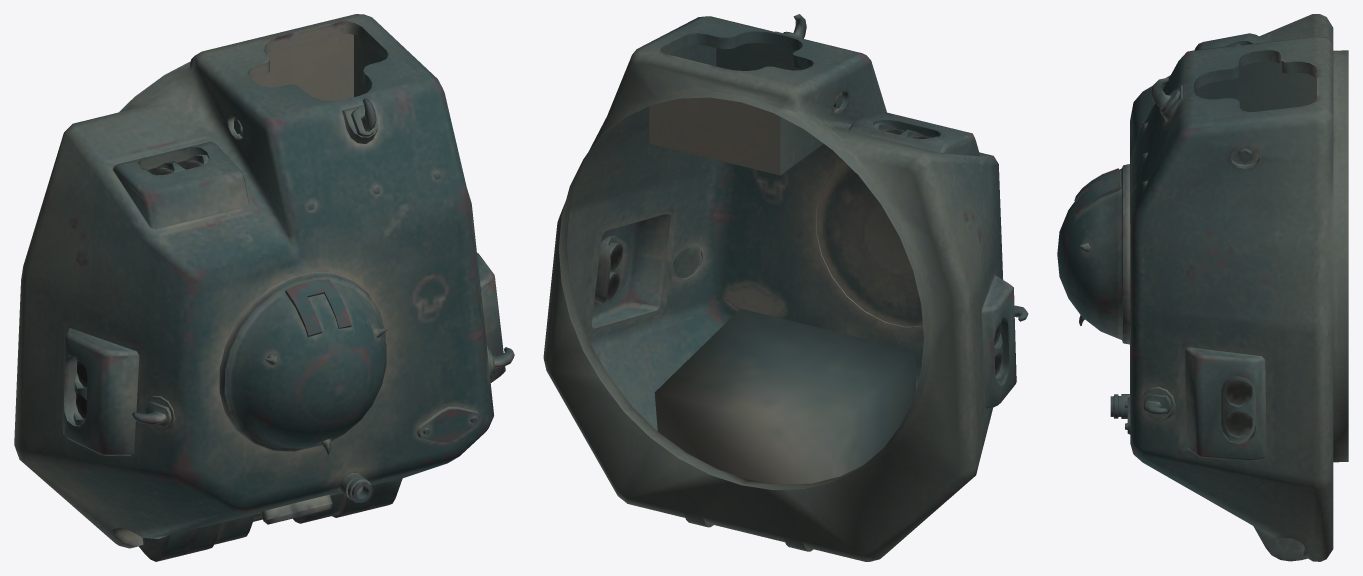
The model's file is Turret_01.glb.
The picture shows the model from 3 angles, left to right: view 1: azimuth 30°, elevation 25°; view 2: azimuth 150°, elevation 25°; view 3: azimuth 270°, elevation 25°; orthographic projection. The views are drawn at different scales.
Visible parts, largest first — view 1: set_0_group_0; view 2: set_0_group_0; view 3: set_0_group_0.
Boxes of the visible parts, x1,y1,x2,y2 form: set_0_group_0: (14, 14, 514, 561); set_0_group_0: (543, 14, 1028, 561); set_0_group_0: (1057, 14, 1348, 561).
Size of the model in its own units: 1.18 by 1.21 by 0.7069.
1 material, 1 textured.
